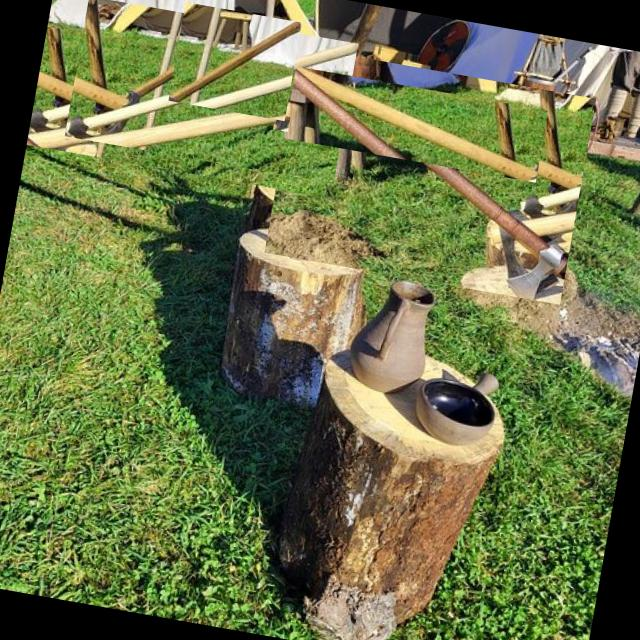Axe: (299, 49, 567, 300), (65, 42, 356, 138), (296, 67, 536, 179), (28, 79, 345, 149), (169, 22, 301, 102), (301, 198, 357, 256), (274, 116, 289, 130)
